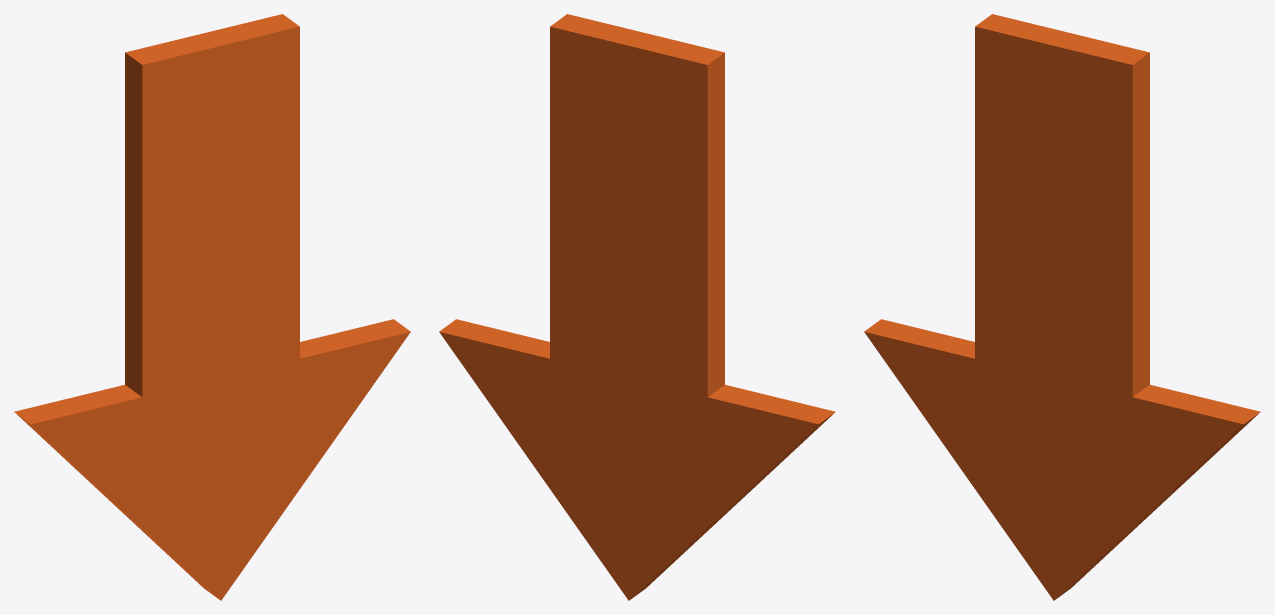
The picture shows the model from 3 angles, left to right: view 1: azimuth 30°, elevation 25°; view 2: azimuth 150°, elevation 25°; view 3: azimuth 330°, elevation 25°; orthographic projection.
Visible parts, largest first — view 1: 큐브; view 2: 큐브; view 3: 큐브.
Part boxes in pixels (box(x1,y1,x2,y2)): 큐브: box(14, 14, 410, 600); 큐브: box(439, 14, 835, 600); 큐브: box(864, 14, 1260, 600).
Size of the model in its own units: 34.39 by 48.04 by 2.7.
